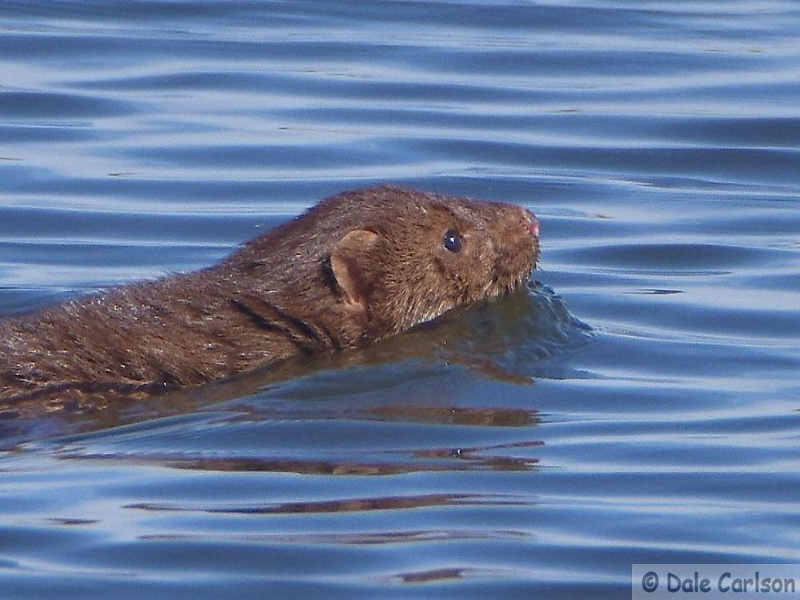minkish: (1, 179, 544, 439)
